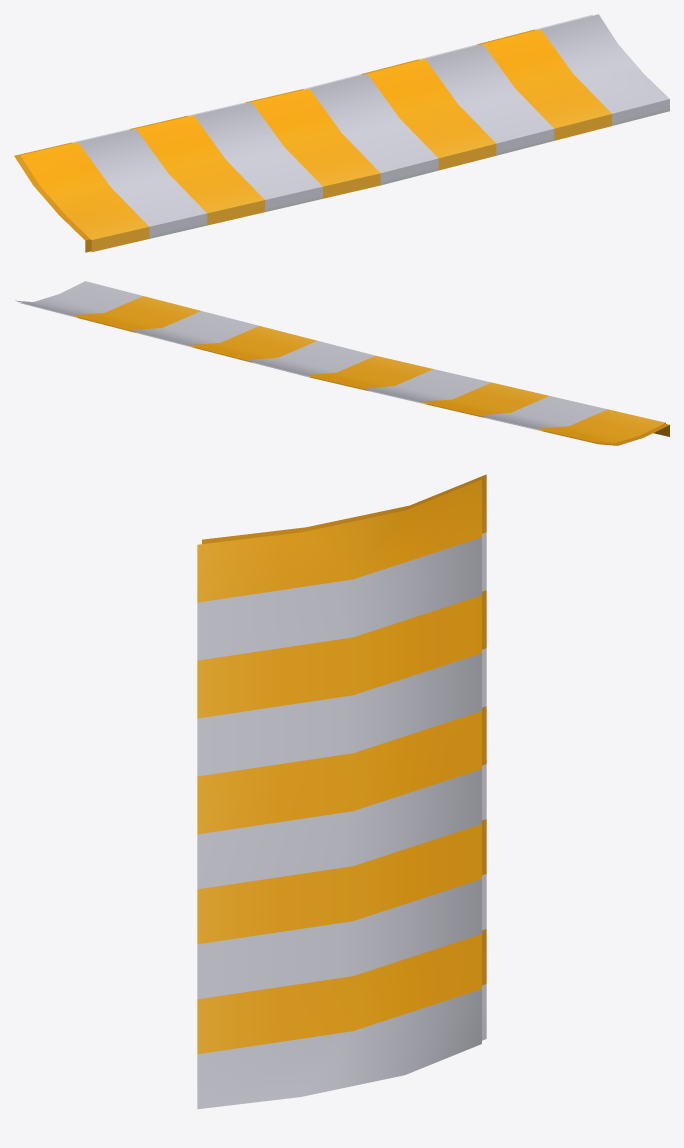
File: Awning_03.fbx
3 renders of one model, top to bottom at view 1: azimuth 30°, elevation 25°; view 2: azimuth 150°, elevation 25°; view 3: azimuth 270°, elevation 25°, orthographic. The views are drawn at different scales.
Visible parts, largest first — view 1: Awning_03; view 2: Awning_03; view 3: Awning_03.
Boxes of the visible parts, bbox=[...] form: Awning_03: bbox=[14, 14, 669, 252]; Awning_03: bbox=[15, 281, 669, 445]; Awning_03: bbox=[197, 474, 486, 1109].
Bounding box in the file's own units: 4.45 × 0.3536 × 0.9542.
